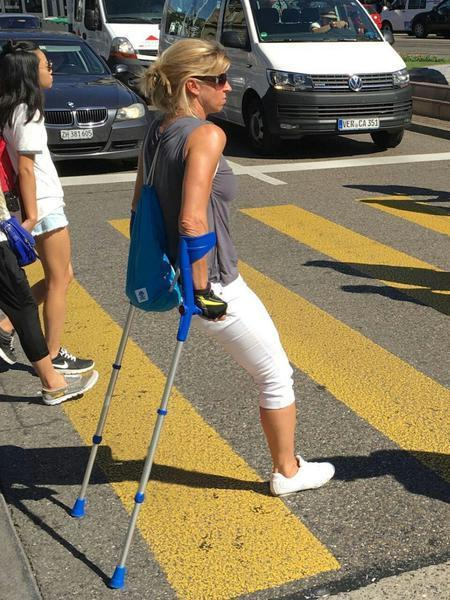crutches: (68, 41, 336, 588)
